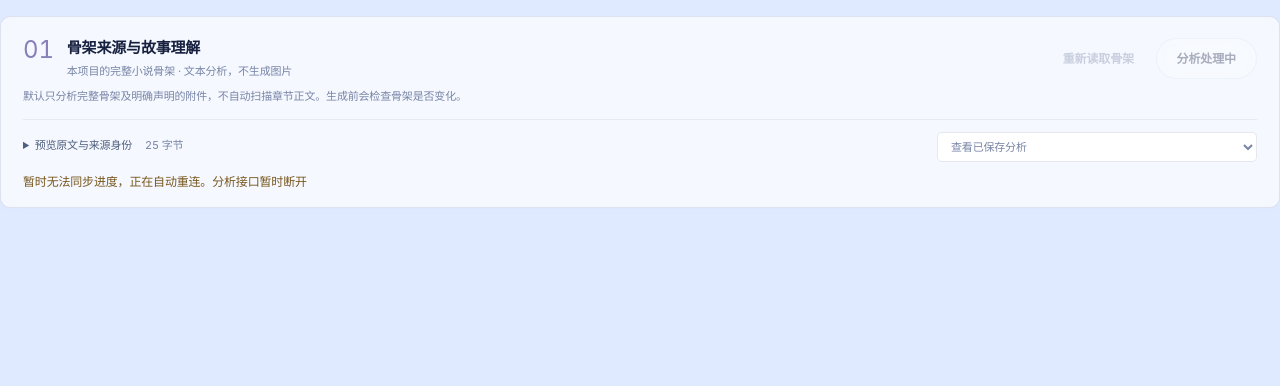
a transient initial coverAnalysis read automatically recovers and cannot enable duplicate analysis
The image size is (1280, 386).
Click the button "分析处理中": click(1206, 59) [1156,38,1257,79]
Wait 5000 ms
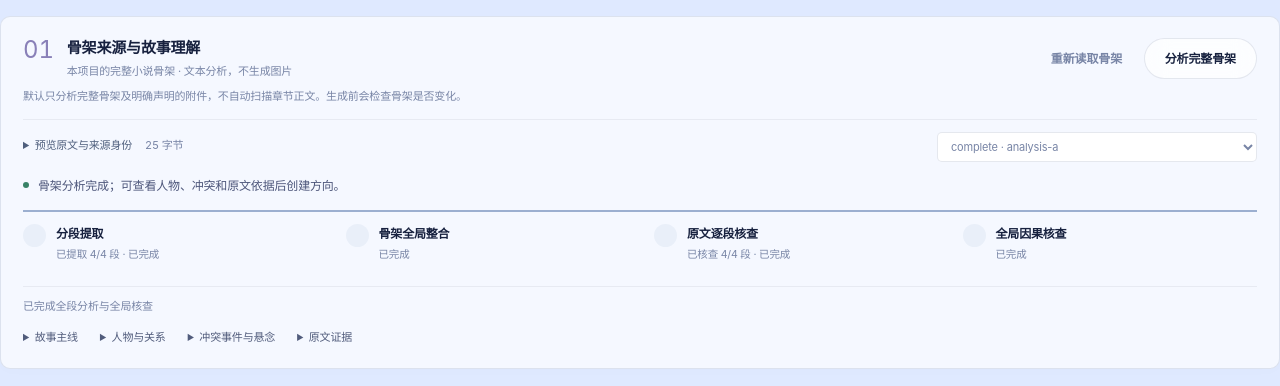
Result: the text "已完成全段分析与全局核查" is shown at [23,298,153,315]
Result: the button "分析完整骨架" is enabled at [1144,38,1257,79]
